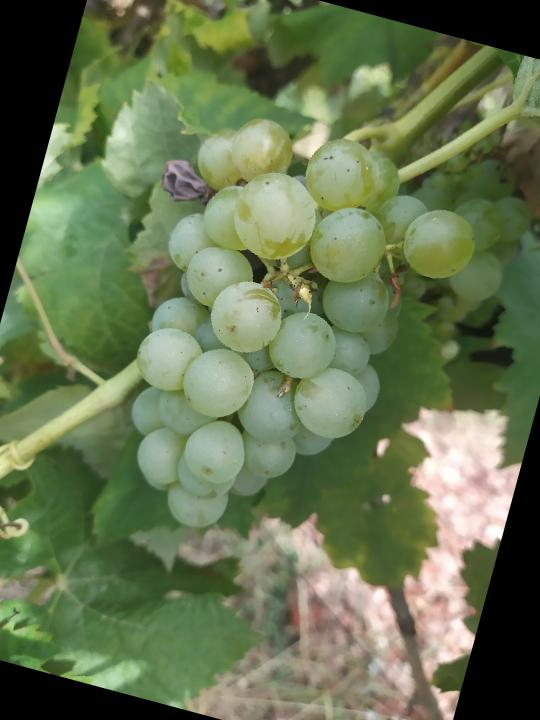grape: (94, 94, 500, 586)
